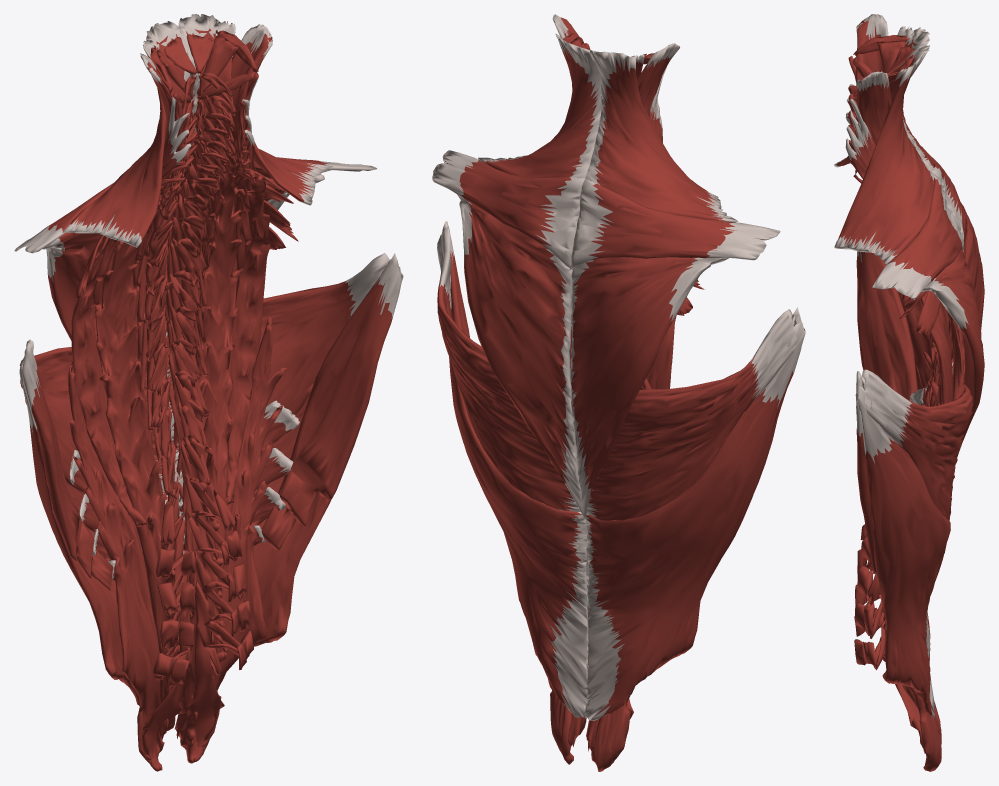
The model's file is muscles-back.glb.
3 renders of one model, left to right at view 1: azimuth 30°, elevation 25°; view 2: azimuth 150°, elevation 25°; view 3: azimuth 270°, elevation 25°, orthographic. The views are drawn at different scales.
Parts seen in each view (by area): view 1: muscle-latissimus-dorsi-muscle-l, muscle-latissimus-dorsi-muscle-r, muscle-longissimus-thoracis-muscle-r, muscle-longissimus-thoracis-muscle-l, muscle-iliocostalis-lumborum-muscle-r, muscle-rotatores-l, muscle-iliocostalis-lumborum-muscle-l, muscle-iliocostalis-thoracis-muscle-l, muscle-ascending-part-of-trapezius-muscle-r, muscle-iliocostalis-thoracis-muscle-r, muscle-rotatores-r, muscle-multifidus-thoracis-muscle-l (+26 smaller); view 2: muscle-latissimus-dorsi-muscle-r, muscle-latissimus-dorsi-muscle-l, muscle-descending-part-of-trapezius-muscle-l, muscle-descending-part-of-trapezius-muscle-r, muscle-ascending-part-of-trapezius-muscle-r, muscle-transverse-part-of-trapezius-muscle-r, muscle-transverse-part-of-trapezius-muscle-l, muscle-ascending-part-of-trapezius-muscle-l, muscle-iliocostalis-lumborum-muscle-r, muscle-splenius-capitis-muscle-r, muscle-iliocostalis-thoracis-muscle-r, muscle-iliocostalis-lumborum-muscle-l; view 3: muscle-latissimus-dorsi-muscle-l, muscle-ascending-part-of-trapezius-muscle-l, muscle-latissimus-dorsi-muscle-r, muscle-transverse-part-of-trapezius-muscle-l, muscle-descending-part-of-trapezius-muscle-l, muscle-splenius-capitis-muscle-l, muscle-ventral-parts-of-lateral-intertransversarii-lumborum- (×2), muscle-descending-part-of-trapezius-muscle-r, muscle-levator-scapulae-l, muscle-iliocostalis-lumborum-muscle-l, muscle-iliocostalis-thoracis-muscle-l, muscle-serratus-posterior-superior-muscle-l (+14 smaller).
Boxes of the visible parts, x1=… form: muscle-latissimus-dorsi-muscle-l: x1=167, y1=253, x2=403, y2=646; muscle-latissimus-dorsi-muscle-r: x1=19, y1=339, x2=167, y2=705; muscle-longissimus-thoracis-muscle-r: x1=95, y1=186, x2=181, y2=739; muscle-longissimus-thoracis-muscle-l: x1=174, y1=165, x2=255, y2=740; muscle-iliocostalis-lumborum-muscle-r: x1=68, y1=365, x2=168, y2=771; muscle-rotatores-l: x1=169, y1=95, x2=231, y2=762; muscle-iliocostalis-lumborum-muscle-l: x1=180, y1=317, x2=286, y2=763; muscle-iliocostalis-thoracis-muscle-l: x1=226, y1=174, x2=270, y2=504; muscle-ascending-part-of-trapezius-muscle-r: x1=62, y1=21, x2=199, y2=247; muscle-iliocostalis-thoracis-muscle-r: x1=71, y1=201, x2=160, y2=526; muscle-rotatores-r: x1=142, y1=98, x2=197, y2=771; muscle-multifidus-thoracis-muscle-l: x1=172, y1=164, x2=222, y2=492; muscle-latissimus-dorsi-muscle-r: x1=584, y1=307, x2=805, y2=720; muscle-latissimus-dorsi-muscle-l: x1=437, y1=221, x2=588, y2=717; muscle-descending-part-of-trapezius-muscle-l: x1=457, y1=194, x2=585, y2=519; muscle-descending-part-of-trapezius-muscle-r: x1=570, y1=257, x2=728, y2=520; muscle-ascending-part-of-trapezius-muscle-r: x1=585, y1=50, x2=738, y2=222; muscle-transverse-part-of-trapezius-muscle-r: x1=570, y1=178, x2=780, y2=270; muscle-transverse-part-of-trapezius-muscle-l: x1=432, y1=150, x2=585, y2=269; muscle-ascending-part-of-trapezius-muscle-l: x1=478, y1=37, x2=602, y2=178; muscle-iliocostalis-lumborum-muscle-r: x1=591, y1=687, x2=634, y2=771; muscle-splenius-capitis-muscle-r: x1=637, y1=43, x2=679, y2=115; muscle-iliocostalis-thoracis-muscle-r: x1=640, y1=315, x2=676, y2=389; muscle-iliocostalis-lumborum-muscle-l: x1=550, y1=690, x2=573, y2=764; muscle-latissimus-dorsi-muscle-l: x1=855, y1=369, x2=972, y2=717; muscle-ascending-part-of-trapezius-muscle-l: x1=834, y1=45, x2=934, y2=263; muscle-latissimus-dorsi-muscle-r: x1=856, y1=251, x2=953, y2=710; muscle-transverse-part-of-trapezius-muscle-l: x1=872, y1=172, x2=963, y2=299; muscle-descending-part-of-trapezius-muscle-l: x1=921, y1=248, x2=984, y2=451; muscle-splenius-capitis-muscle-l: x1=856, y1=71, x2=891, y2=146; muscle-ventral-parts-of-lateral-intertransversarii-lumborum- (×2): x1=854, y1=524, x2=871, y2=665; muscle-descending-part-of-trapezius-muscle-r: x1=960, y1=202, x2=984, y2=329; muscle-levator-scapulae-l: x1=845, y1=98, x2=875, y2=178; muscle-iliocostalis-lumborum-muscle-l: x1=907, y1=403, x2=941, y2=771; muscle-iliocostalis-thoracis-muscle-l: x1=920, y1=291, x2=953, y2=403; muscle-serratus-posterior-superior-muscle-l: x1=899, y1=291, x2=940, y2=334.
Size of the model in its own units: 0.3693 by 0.6909 by 0.1304.
